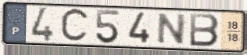4: (30, 6, 56, 43), (127, 11, 152, 46)
5: (94, 8, 121, 45)
B: (189, 12, 221, 49)
C: (59, 7, 91, 45)
N: (155, 12, 188, 46)
